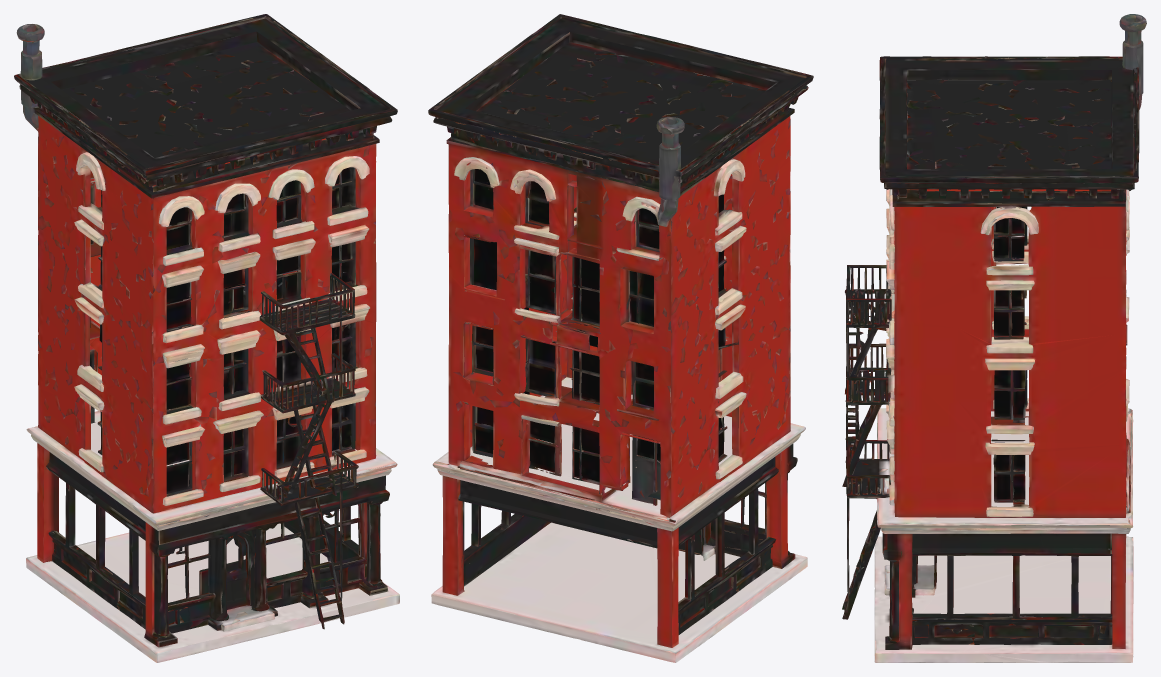
File: facade-tall.glb
3 views of the same model, side by side, from view 1: azimuth 30°, elevation 25°; view 2: azimuth 150°, elevation 25°; view 3: azimuth 270°, elevation 25° (orthographic). The views are drawn at different scales.
Parts seen in each view (by area): view 1: geometry_0; view 2: geometry_0; view 3: geometry_0.
Part boxes in pixels (x1,y1,x2,y2): geometry_0: [14, 14, 399, 662]; geometry_0: [428, 14, 813, 662]; geometry_0: [842, 14, 1146, 662].
Bounding box in the file's own units: 0.4931 × 1 × 0.5216.
1 material, 1 textured.
